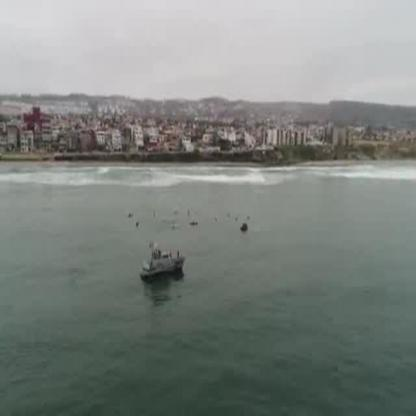Boat: (138, 249, 186, 283)
